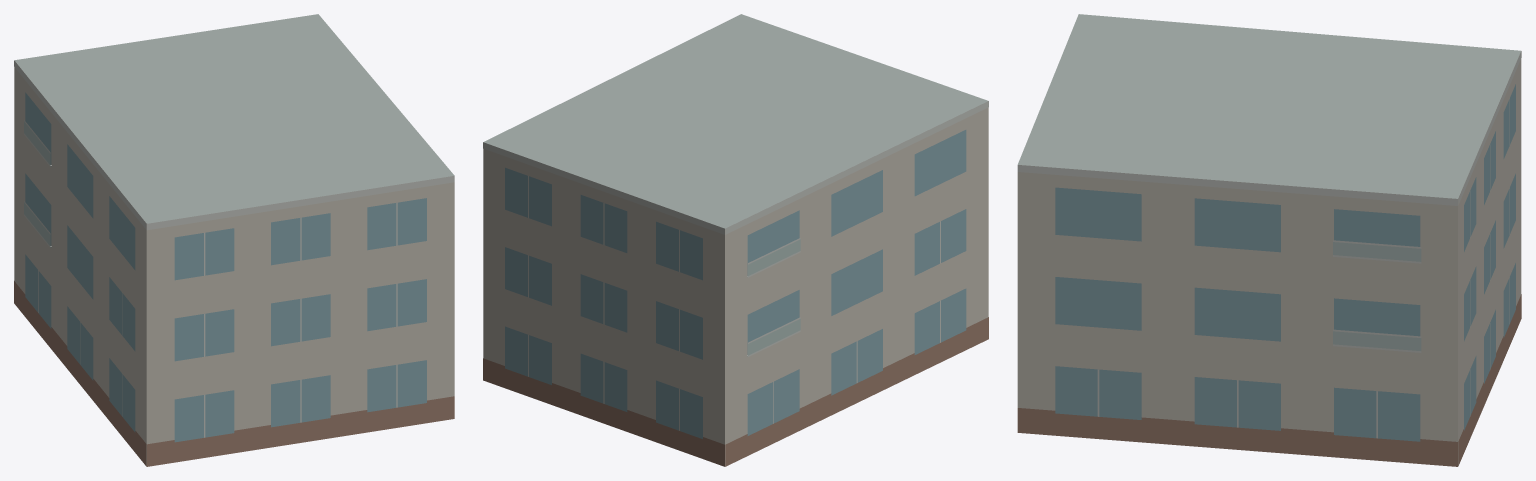
File: survey-upis-32541042.glb
The picture shows the model from 3 angles, left to right: view 1: azimuth 30°, elevation 25°; view 2: azimuth 150°, elevation 25°; view 3: azimuth 270°, elevation 25°; orthographic projection. The views are drawn at different scales.
Visible parts, largest first — view 1: survey-upis-32541042.tmp; view 2: survey-upis-32541042.tmp; view 3: survey-upis-32541042.tmp.
Part boxes in pixels (x1,y1,x2,y2): survey-upis-32541042.tmp: [14, 14, 454, 466]; survey-upis-32541042.tmp: [483, 14, 988, 466]; survey-upis-32541042.tmp: [1017, 14, 1521, 466].
Bounding box in the file's own units: 13.55 × 9.15 × 15.6.
